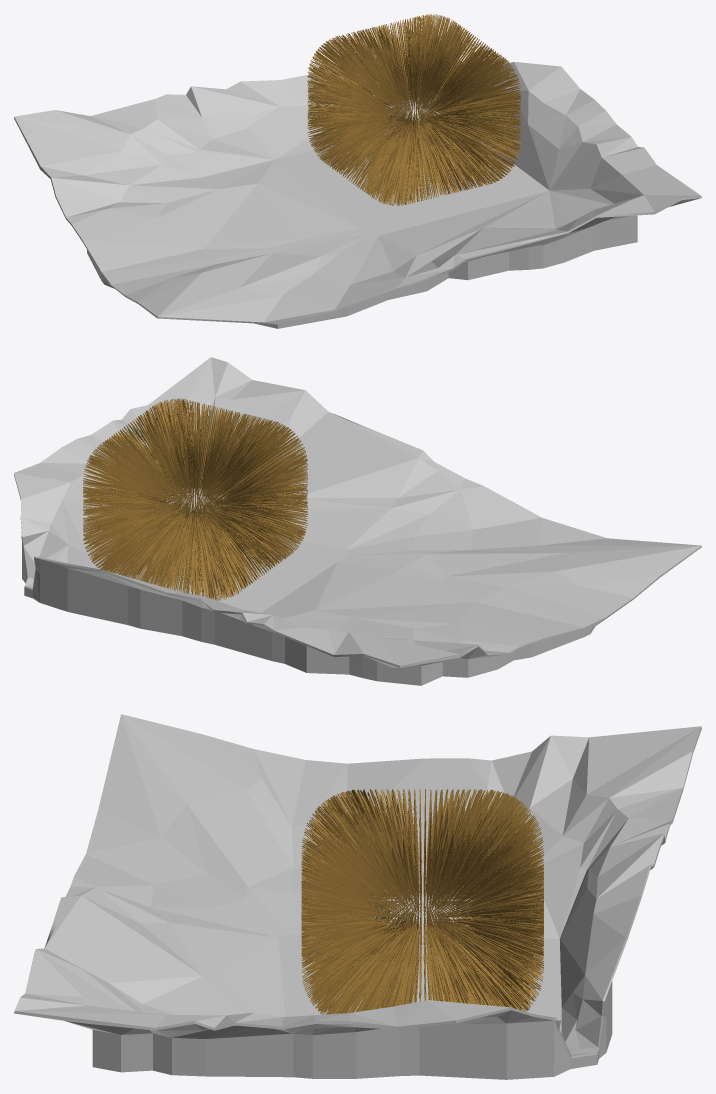
File: UKPavilion.fbx
3 views of the same model, one above another, from view 1: azimuth 30°, elevation 25°; view 2: azimuth 150°, elevation 25°; view 3: azimuth 270°, elevation 25° (orthographic). The views are drawn at different scales.
Parts seen in each view (by area): view 1: LANDSCAPE, PAVILION; view 2: LANDSCAPE, PAVILION; view 3: LANDSCAPE, PAVILION.
Part boxes in pixels (box(x1,y1,x2,y2)): LANDSCAPE: box(14, 62, 701, 328); PAVILION: box(307, 14, 520, 205); LANDSCAPE: box(14, 357, 701, 685); PAVILION: box(83, 398, 307, 600); LANDSCAPE: box(14, 714, 701, 1079); PAVILION: box(301, 789, 543, 1014).
Size of the model in its own units: 1133 by 946 by 285.
